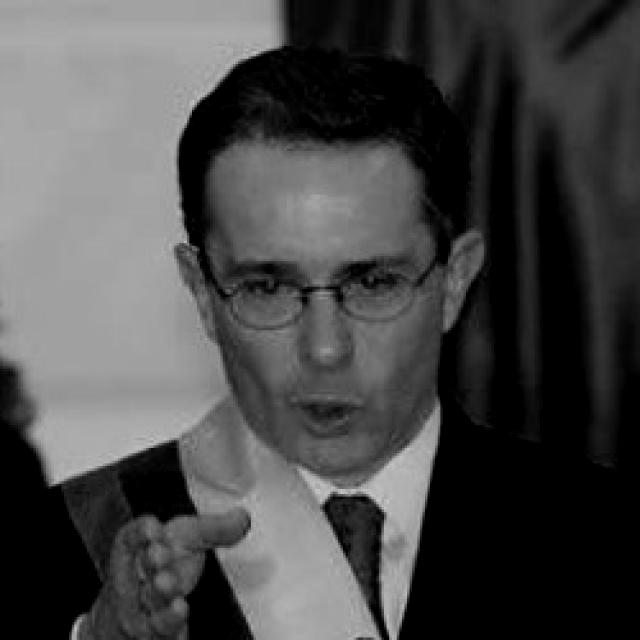real: (172, 60, 480, 481), (215, 248, 440, 323)
